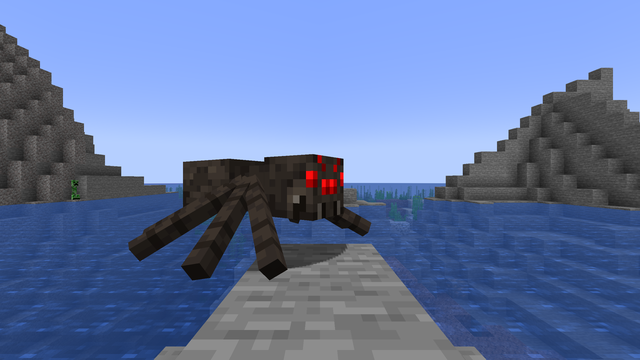araignees: (148, 140, 347, 268)
creepers: (71, 179, 78, 199)
